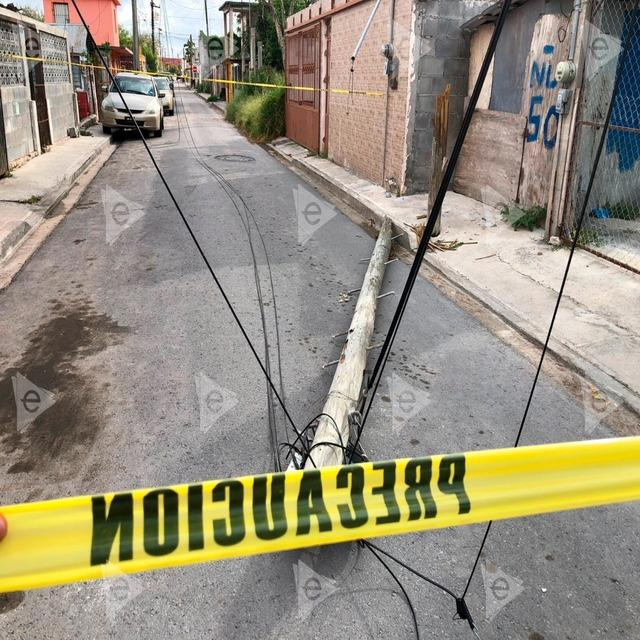Inclined Pole: (264, 214, 399, 587)
